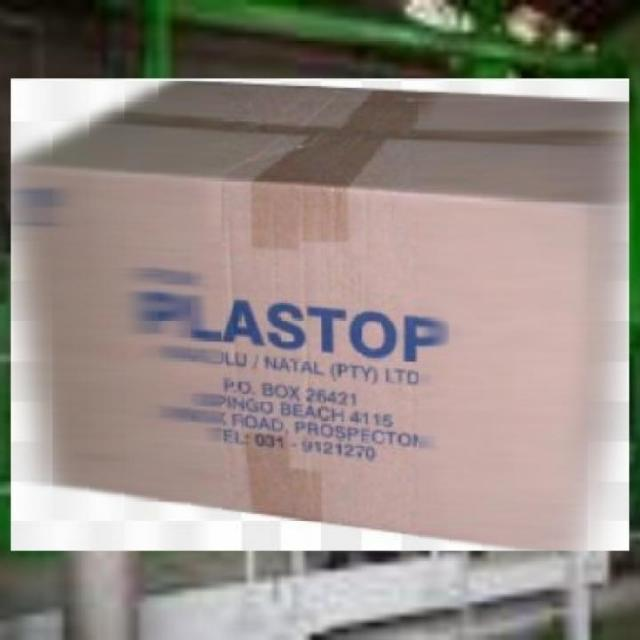box: (2, 72, 640, 560)
